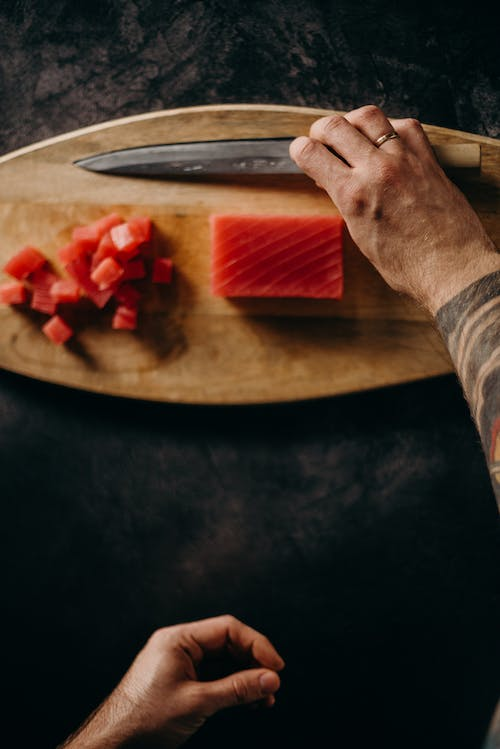knife: (68, 133, 483, 187)
